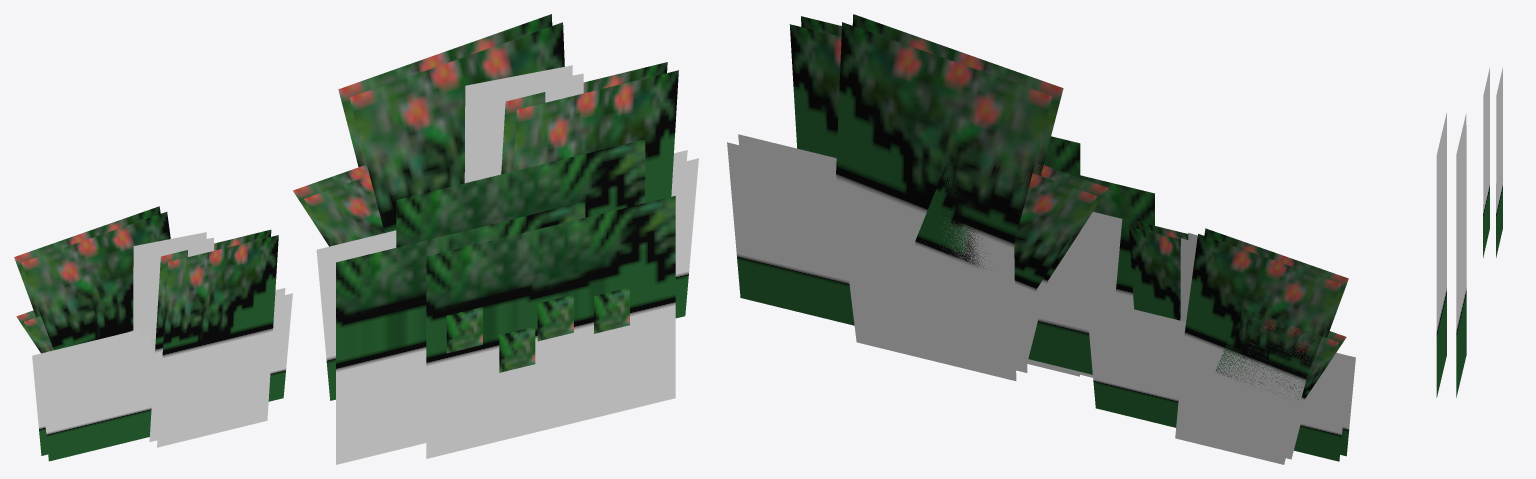
Rendered from NaErSenEeZiDeFangJian_zhiwu_01.FBX.
3 views of the same model, side by side, from view 1: azimuth 30°, elevation 25°; view 2: azimuth 150°, elevation 25°; view 3: azimuth 270°, elevation 25° (orthographic). The views are drawn at different scales.
Visible parts, largest first — view 1: NaErSenErZideFangJian_zhiwu_01; view 2: NaErSenErZideFangJian_zhiwu_01; view 3: NaErSenErZideFangJian_zhiwu_01.
Part boxes in pixels (box(x1,y1,x2,y2)): NaErSenErZideFangJian_zhiwu_01: box(14, 14, 698, 464); NaErSenErZideFangJian_zhiwu_01: box(727, 14, 1355, 464); NaErSenErZideFangJian_zhiwu_01: box(1436, 67, 1502, 397).
Size of the model in its own units: 1362 by 718 by 288.
